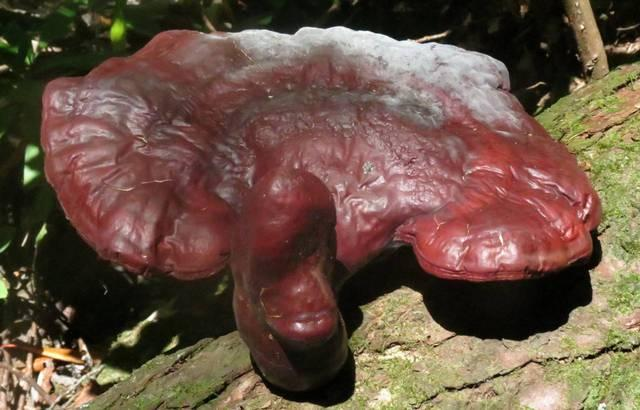Non-edible Mushroom: (38, 24, 602, 393)
